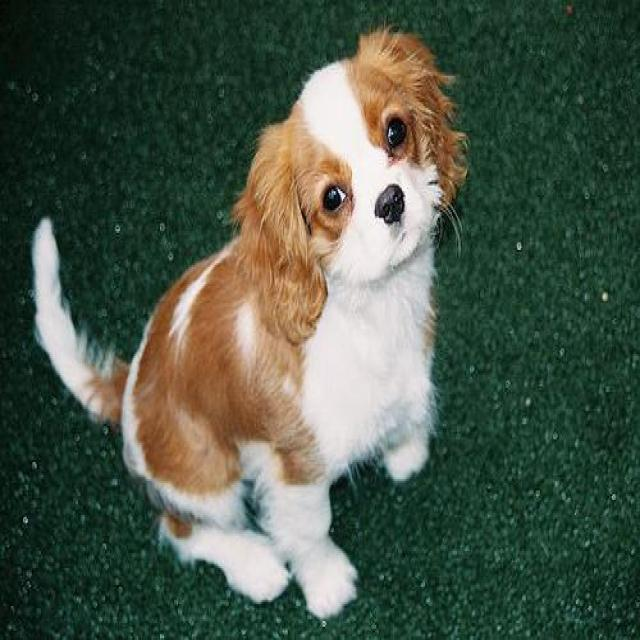blenheim_spaniel: (29, 19, 468, 629)
